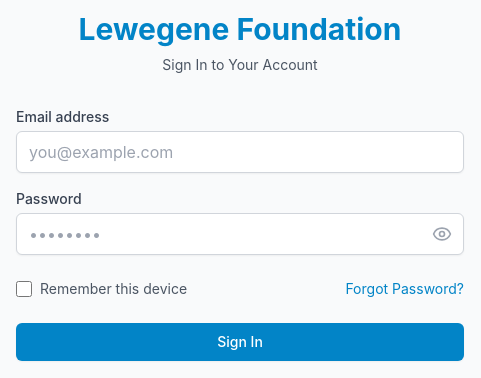
Scenario: LoginPage › disables button while submitting
The width and height of the screenshot is (481, 378).
Type "test@example.com" into the field with placeholder "you@example.com".
click(240, 152); type("test@example.com")  # box x1=16 y1=131 x2=464 y2=173
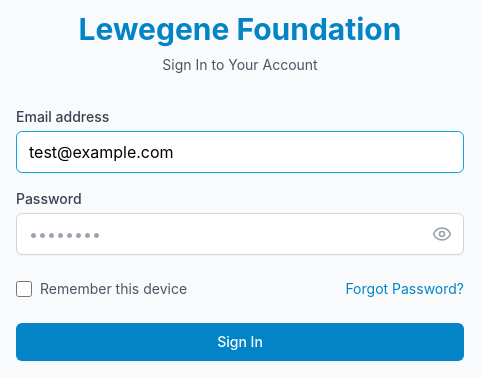
Type "password123" into the password field with placeholder "••••••••".
click(240, 234); type("password123")  # box x1=16 y1=213 x2=464 y2=255
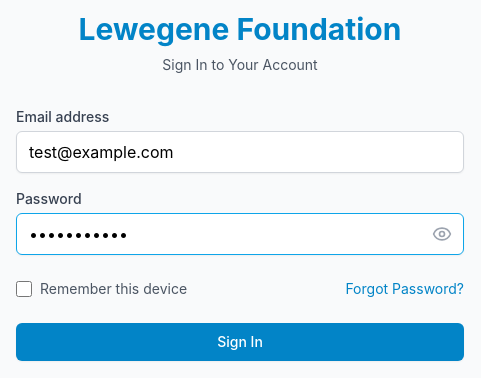
Click the button "Sign In".
click(240, 342)  # box x1=16 y1=323 x2=464 y2=361
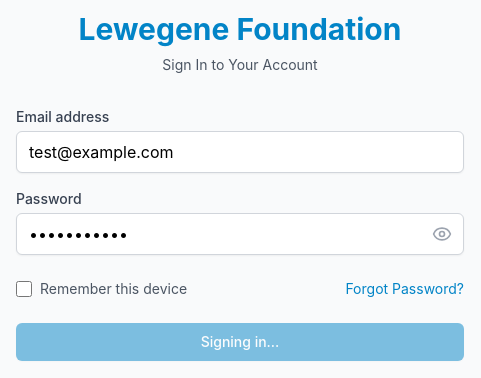
Now the button "Signing in..." is disabled, box x1=16 y1=323 x2=464 y2=361
